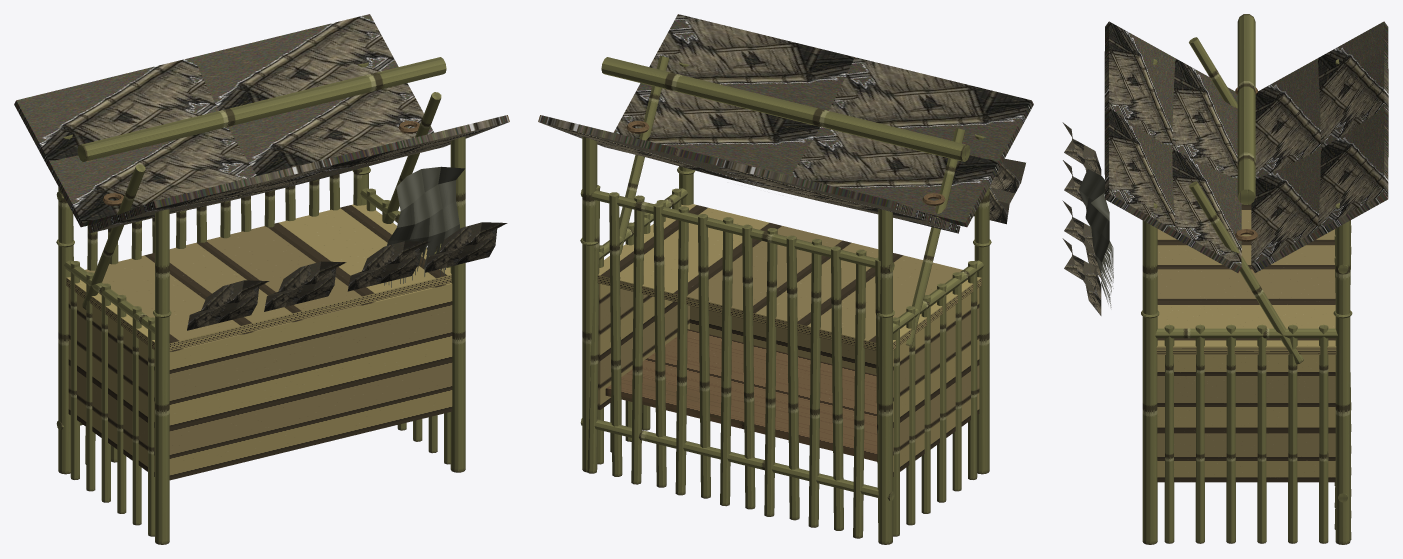
The model's file is cho-ma-sap-tre-trong.glb.
The picture shows the model from 3 angles, left to right: view 1: azimuth 30°, elevation 25°; view 2: azimuth 150°, elevation 25°; view 3: azimuth 270°, elevation 25°; orthographic projection.
Visible parts, largest first — view 1: cho-ma-sap-tre-trong; view 2: cho-ma-sap-tre-trong; view 3: cho-ma-sap-tre-trong.
Boxes of the visible parts, x1,y1,x2,y2 form: cho-ma-sap-tre-trong: [14, 14, 509, 544]; cho-ma-sap-tre-trong: [538, 14, 1033, 544]; cho-ma-sap-tre-trong: [1062, 14, 1388, 544].
Size of the model in its own units: 2.8 by 2.74 by 2.2.
Materials: 5 (5 with a texture image).
